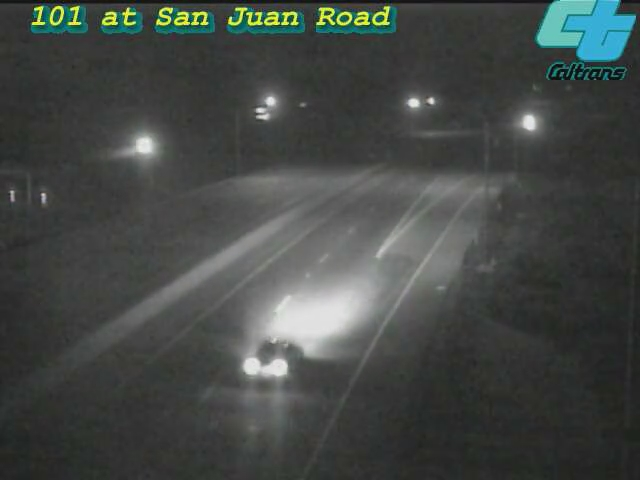vehicle: (213, 307, 323, 417), (506, 97, 556, 147)
